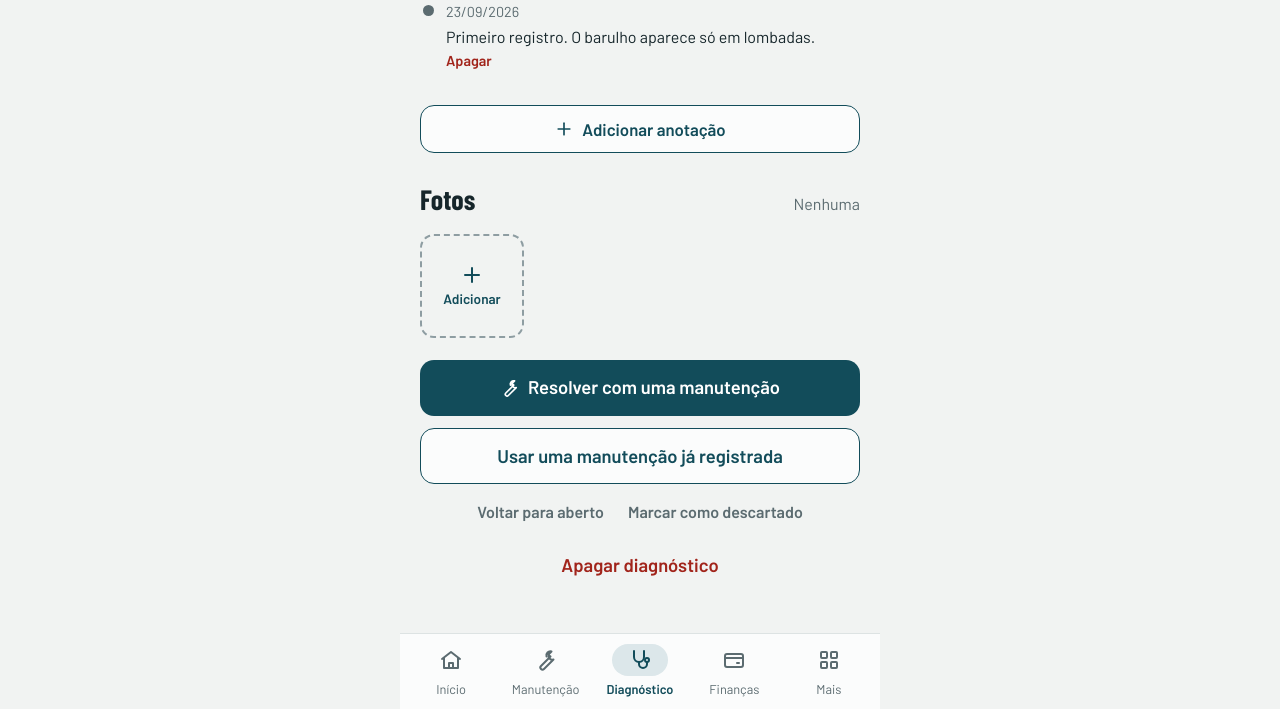
Test: Detalhe do diagnóstico › descarta com motivo só depois de confirmar
The width and height of the screenshot is (1280, 709).
(page scrolled)
Click the button "Marcar como descartado" at (715, 511), box left=628, top=498, right=803, bottom=525
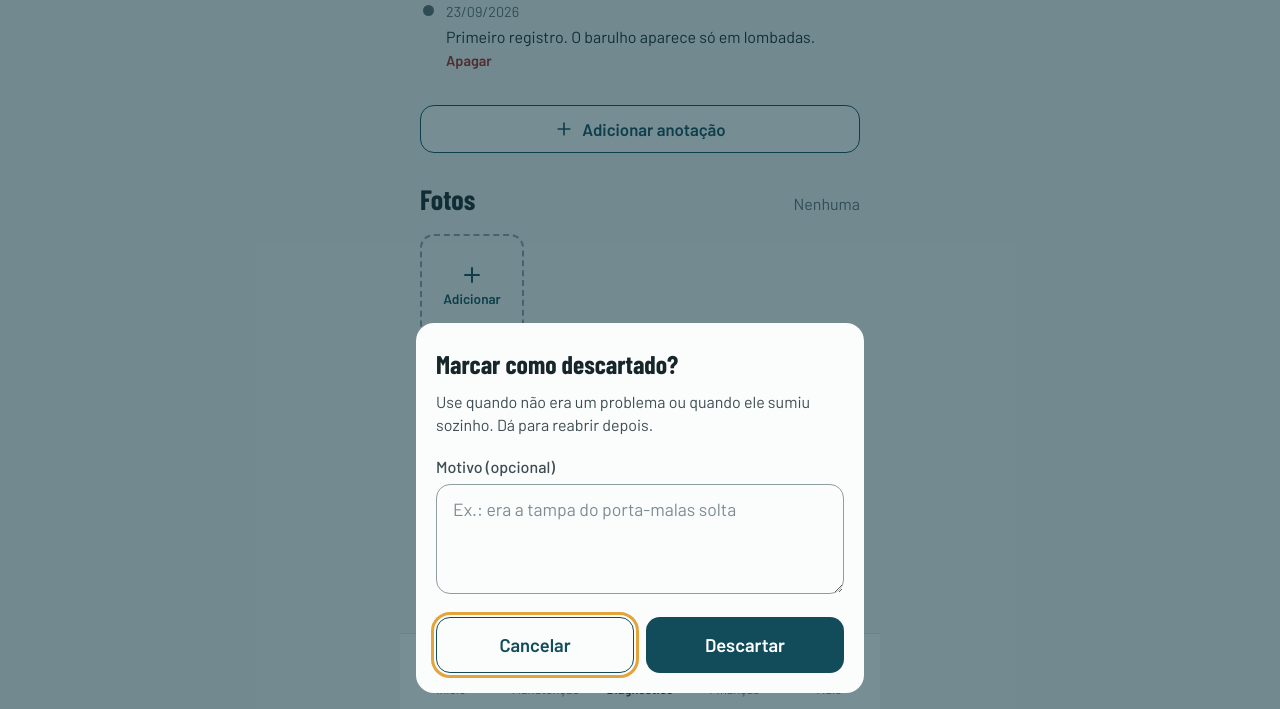
Type "Era a tampa solta." into the text box labelled "Motivo (opcional)" at (640, 539), box left=436, top=484, right=844, bottom=594
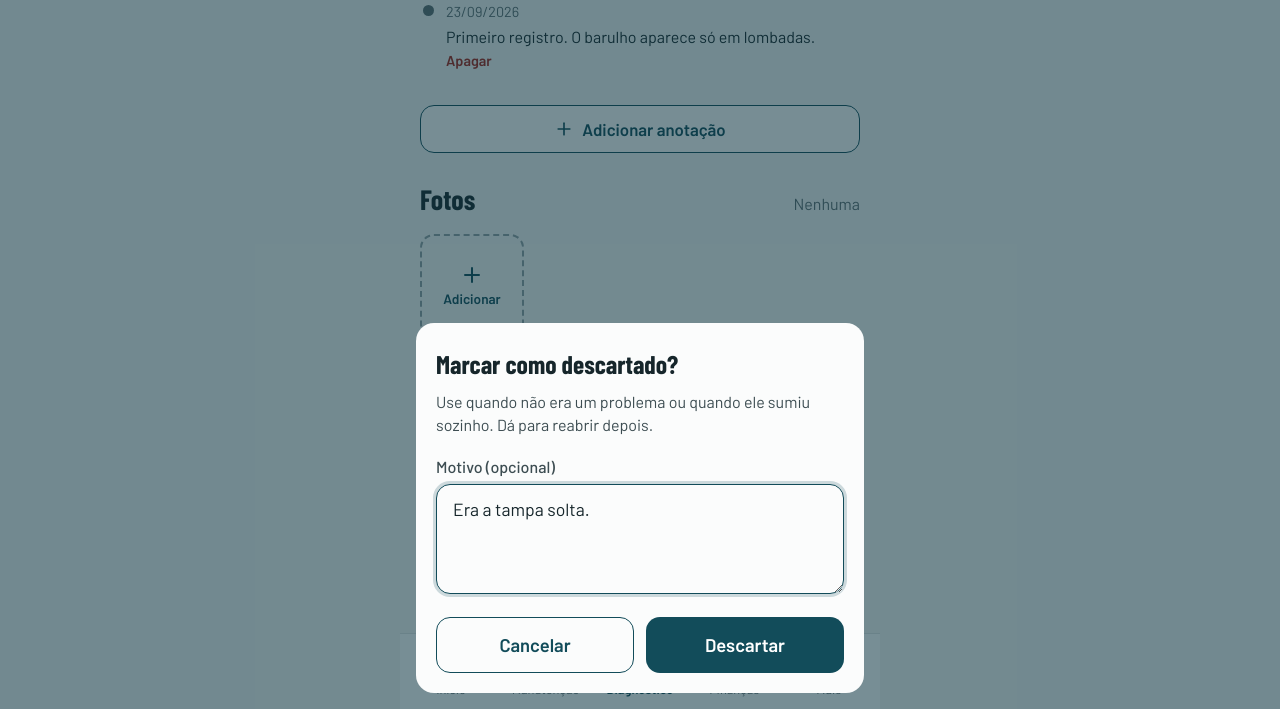
Click the button "Descartar" at (745, 645), box left=646, top=617, right=844, bottom=673
(page scrolled)
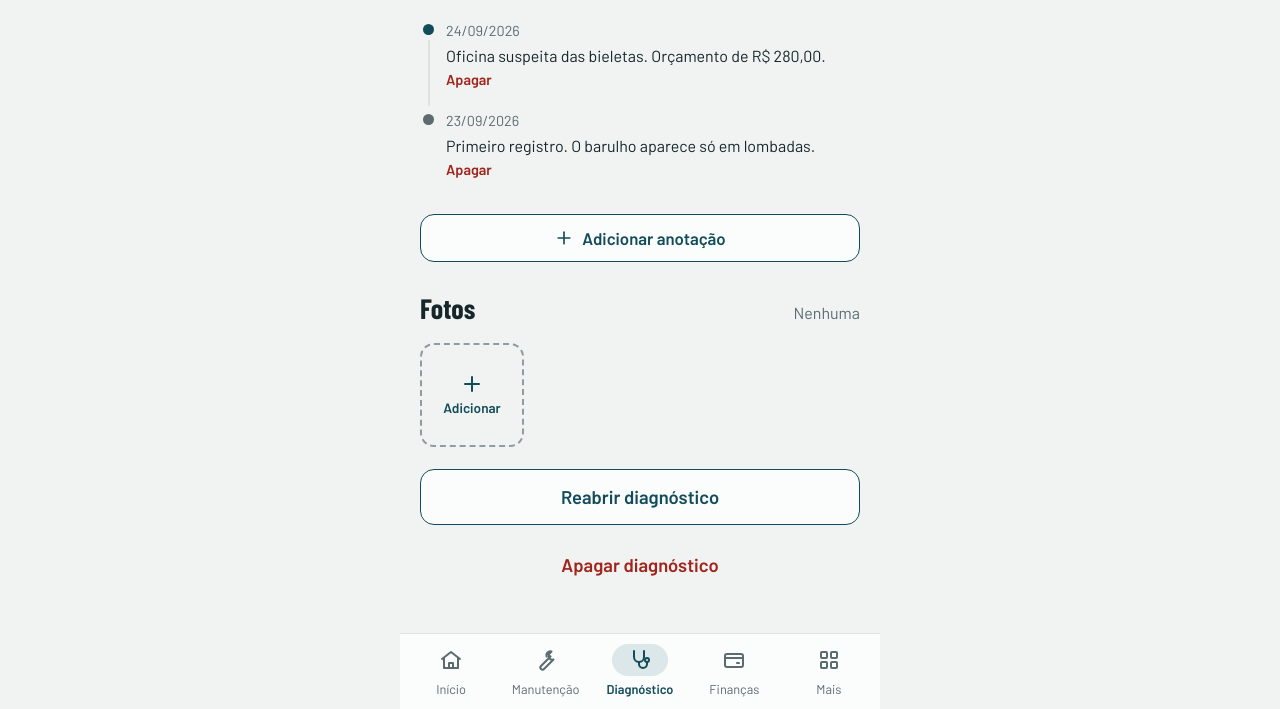
Expected: the button "Reabrir diagnóstico" is shown, left=420, top=469, right=860, bottom=525
Expected: the link "Resolver com uma manutenção" is gone
